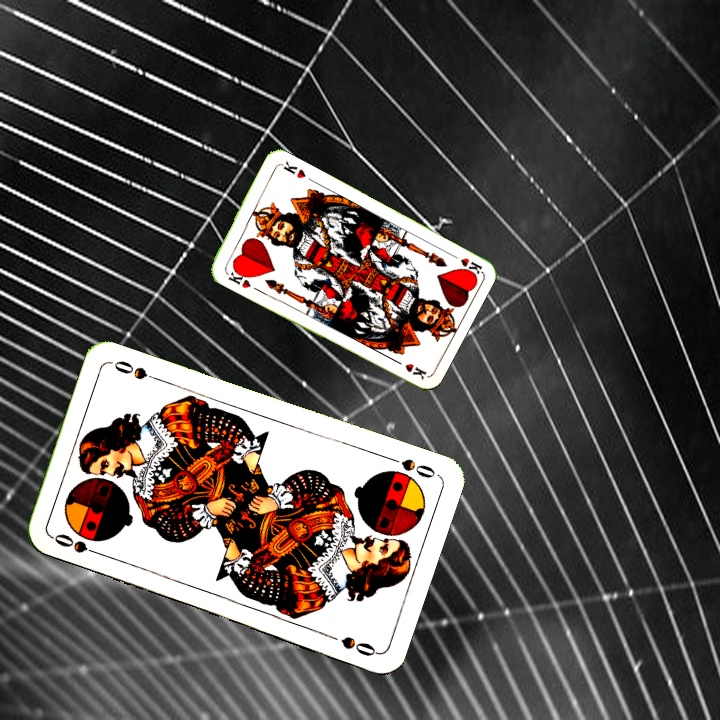HK: (445, 249, 484, 278), (224, 264, 254, 291)
SO: (49, 529, 106, 559), (383, 452, 440, 481)
